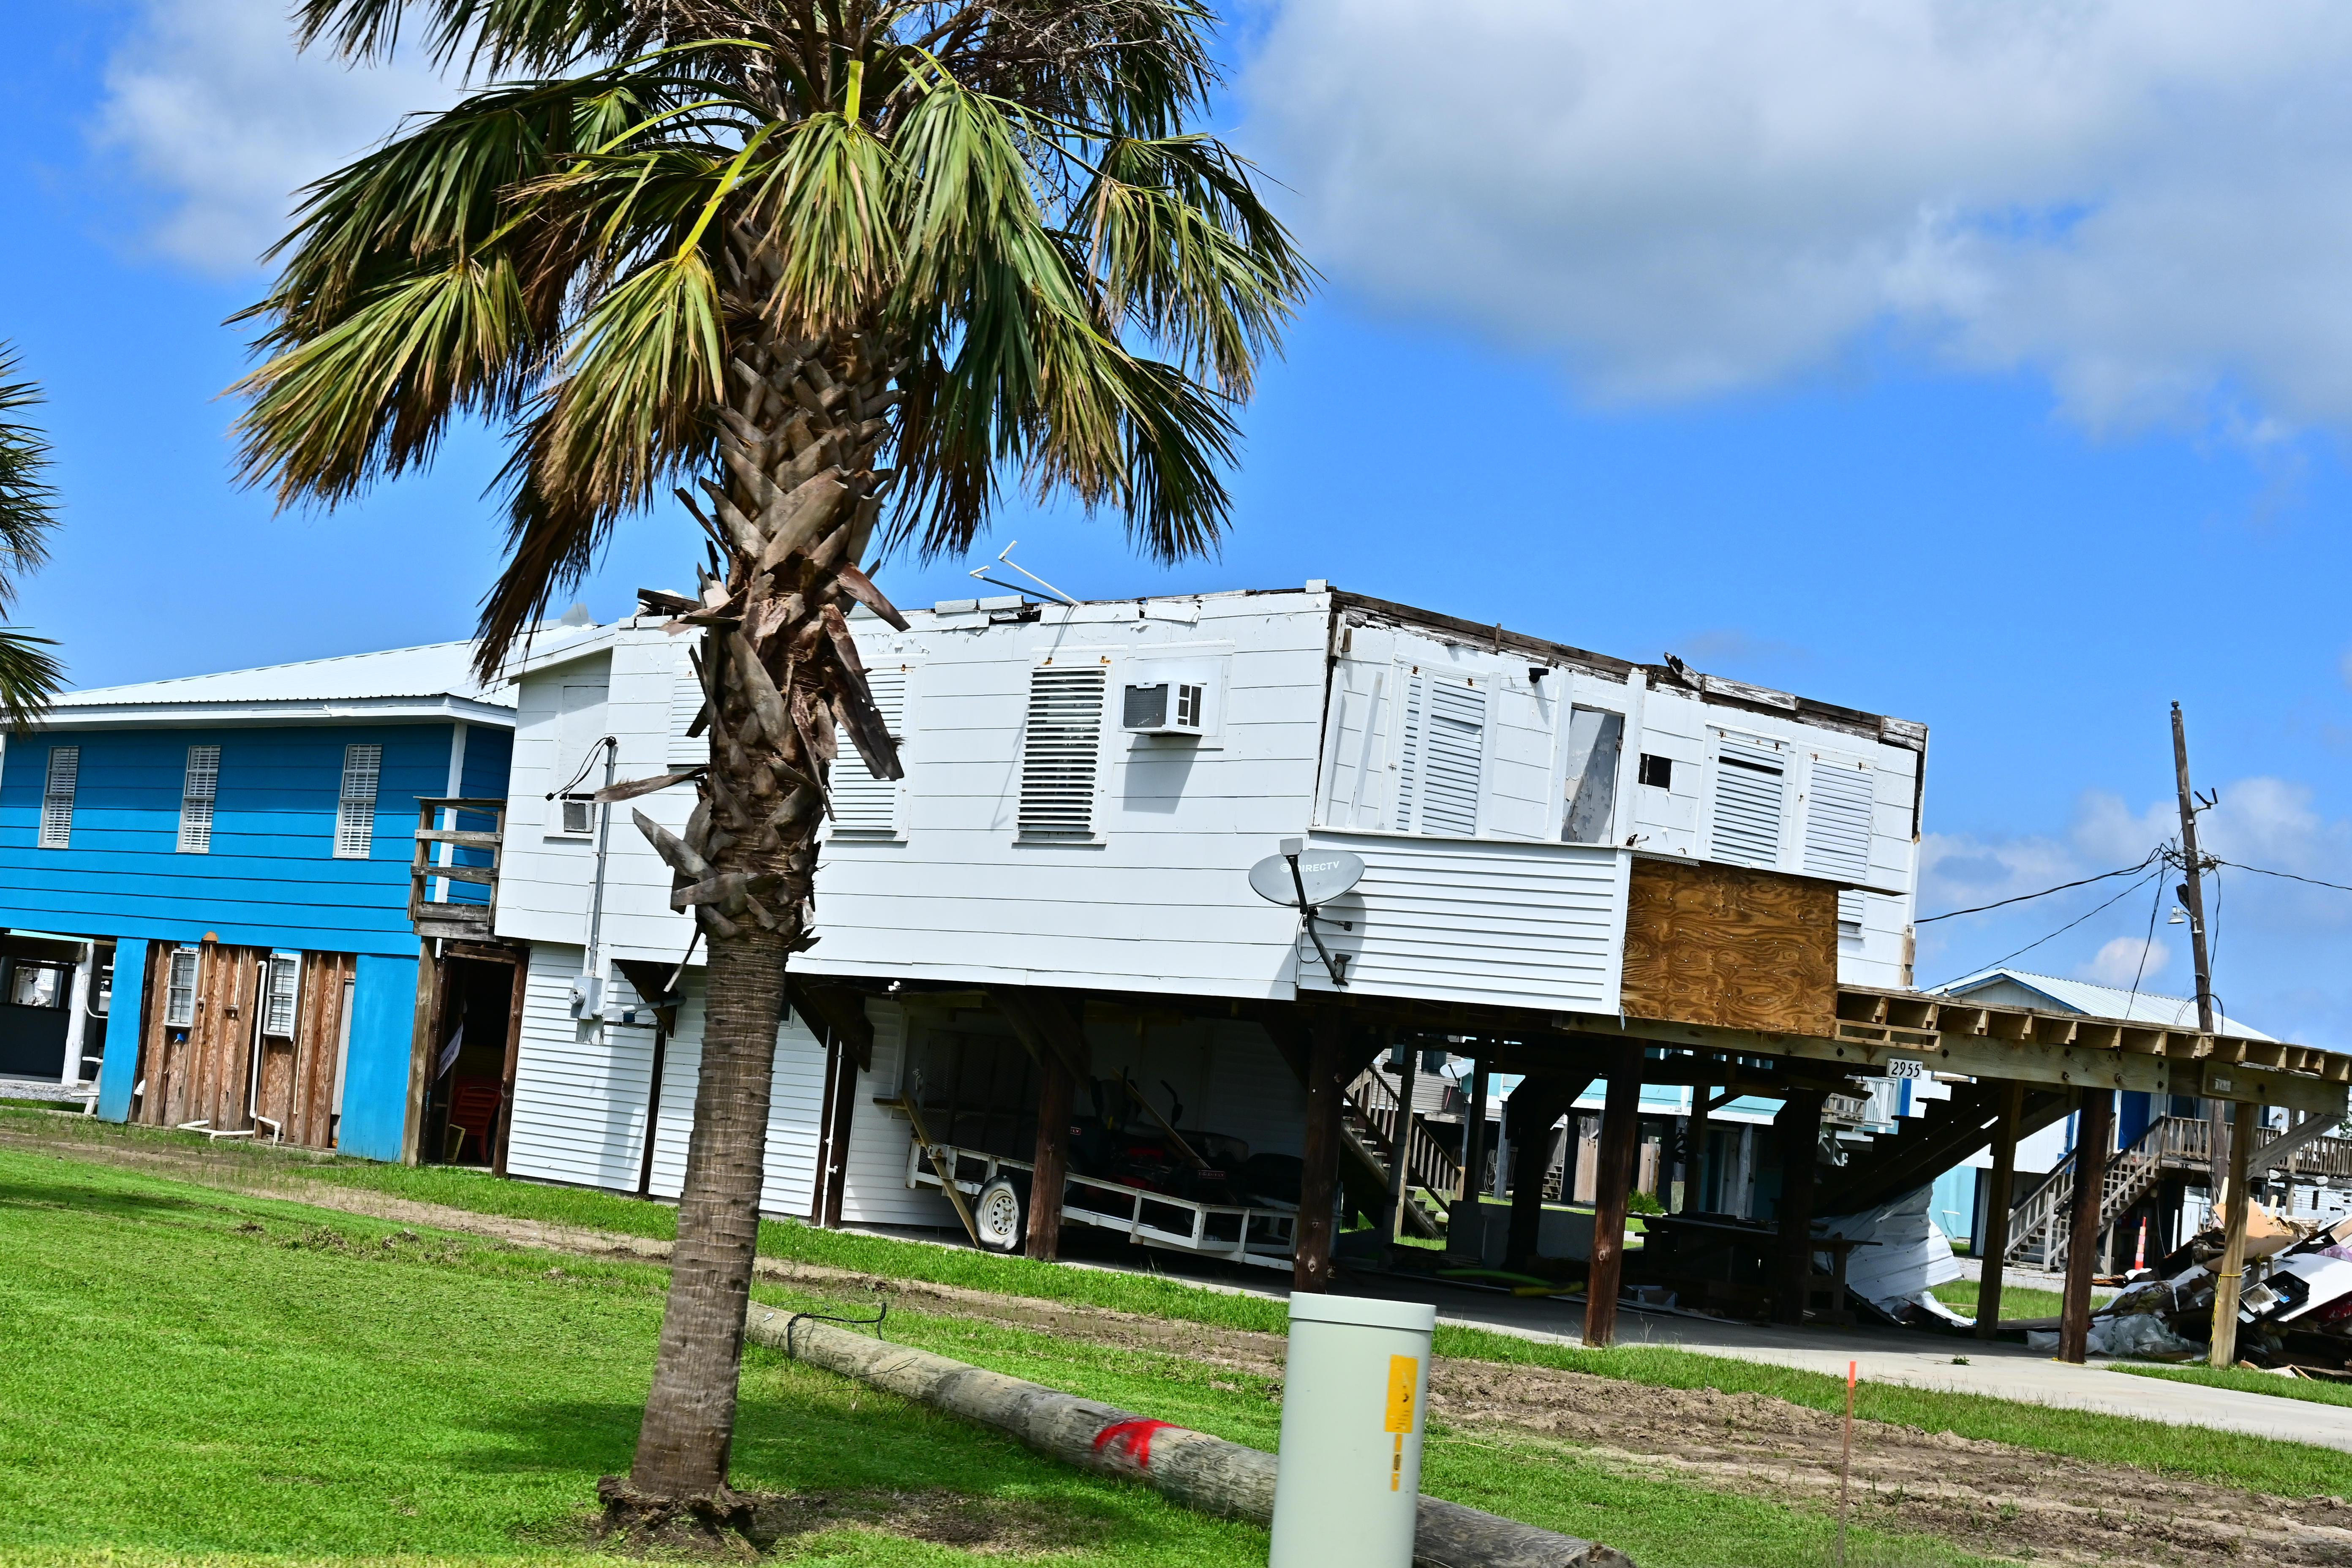destroyed: (478, 539, 2350, 1419)
minor: (0, 584, 546, 1181)
